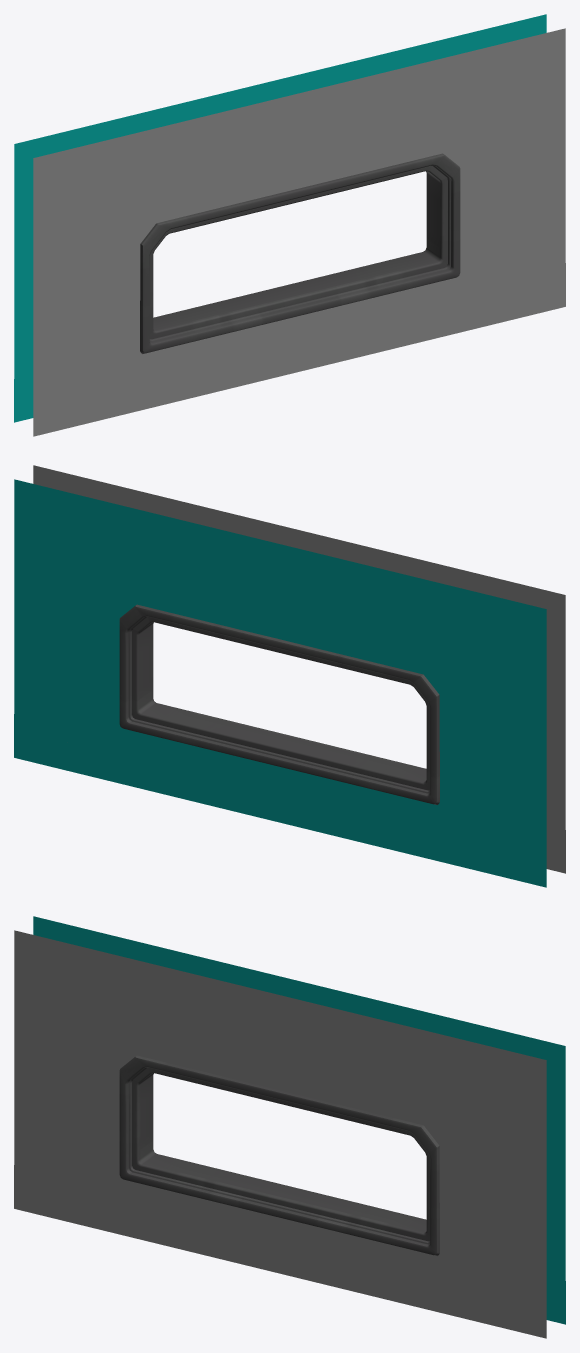
The model's file is EN_W_Window_transition.fbx.
The picture shows the model from 3 angles, top to bottom: view 1: azimuth 30°, elevation 25°; view 2: azimuth 150°, elevation 25°; view 3: azimuth 330°, elevation 25°; orthographic projection.
Parts seen in each view (by area): view 1: EN_W_Window_transition; view 2: EN_W_Window_transition; view 3: EN_W_Window_transition.
Part boxes in pixels (bbox=[...]): EN_W_Window_transition: bbox=[14, 14, 565, 436]; EN_W_Window_transition: bbox=[14, 465, 565, 887]; EN_W_Window_transition: bbox=[14, 916, 565, 1338].
Bounding box in the file's own units: 801 × 400 × 62.43.
